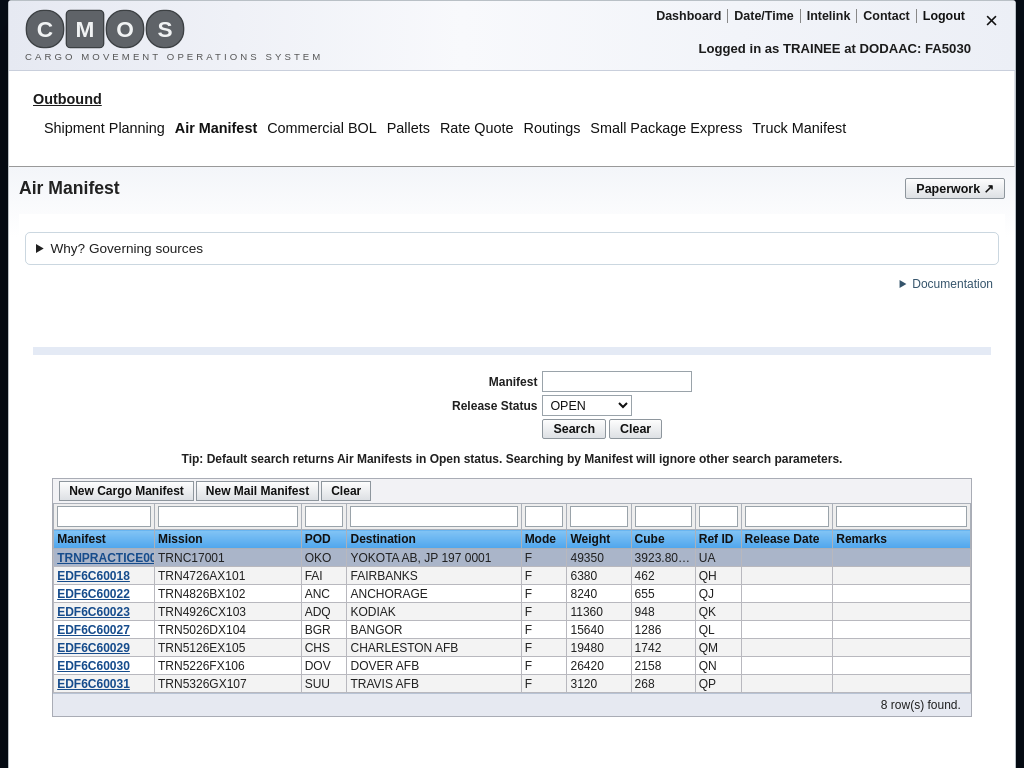
Test: legacy current pull sheet print preserves its manifest number
Click the button with aria-label "Open manifest TRN": (110, 558) [57,551,163,565]
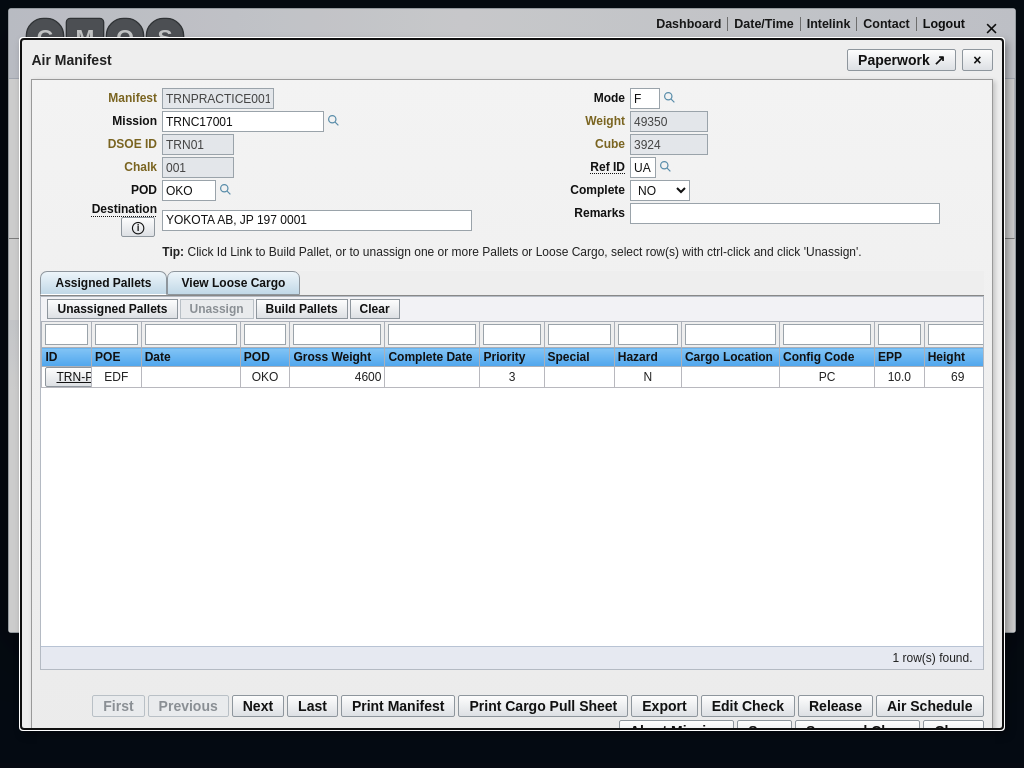
Click the button "Print Cargo Pull Sheet": (543, 706) [458,695,628,717]
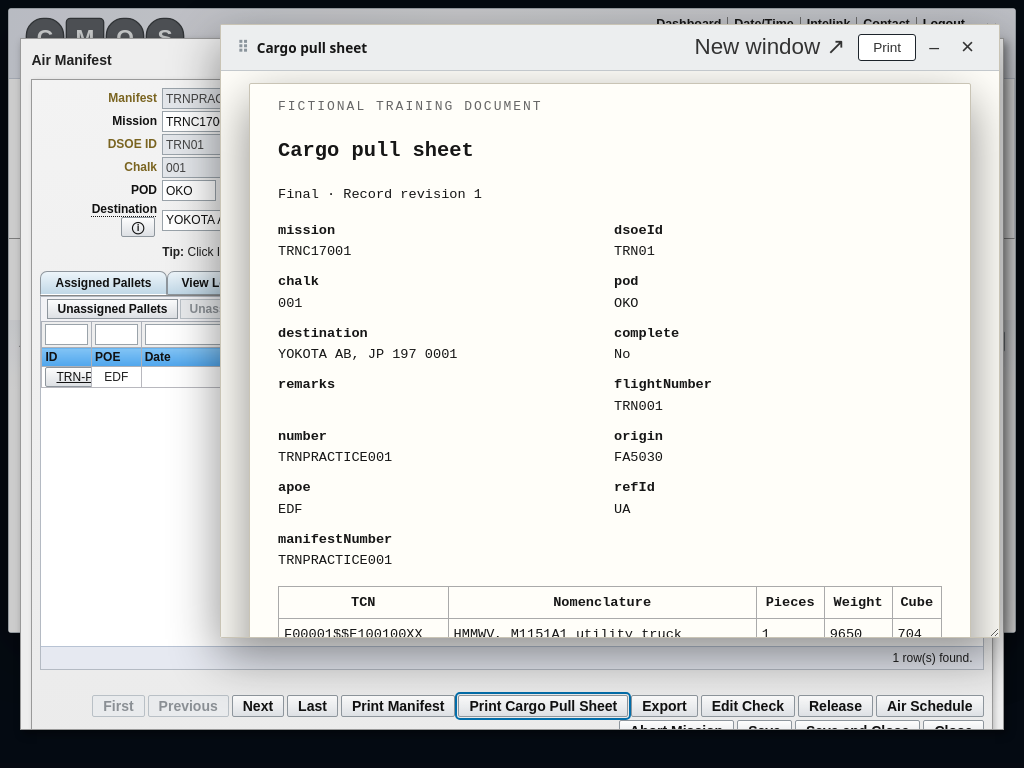
Check: the dialog "Cargo pull sheet" shows "TRNPRACTICE001", box [278,450,392,465]
